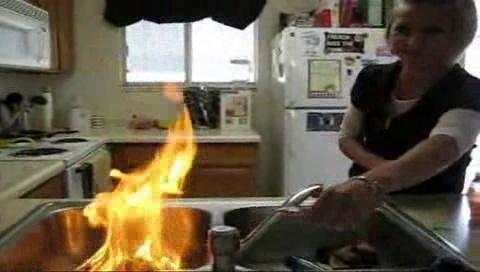fire: (99, 122, 197, 269)
